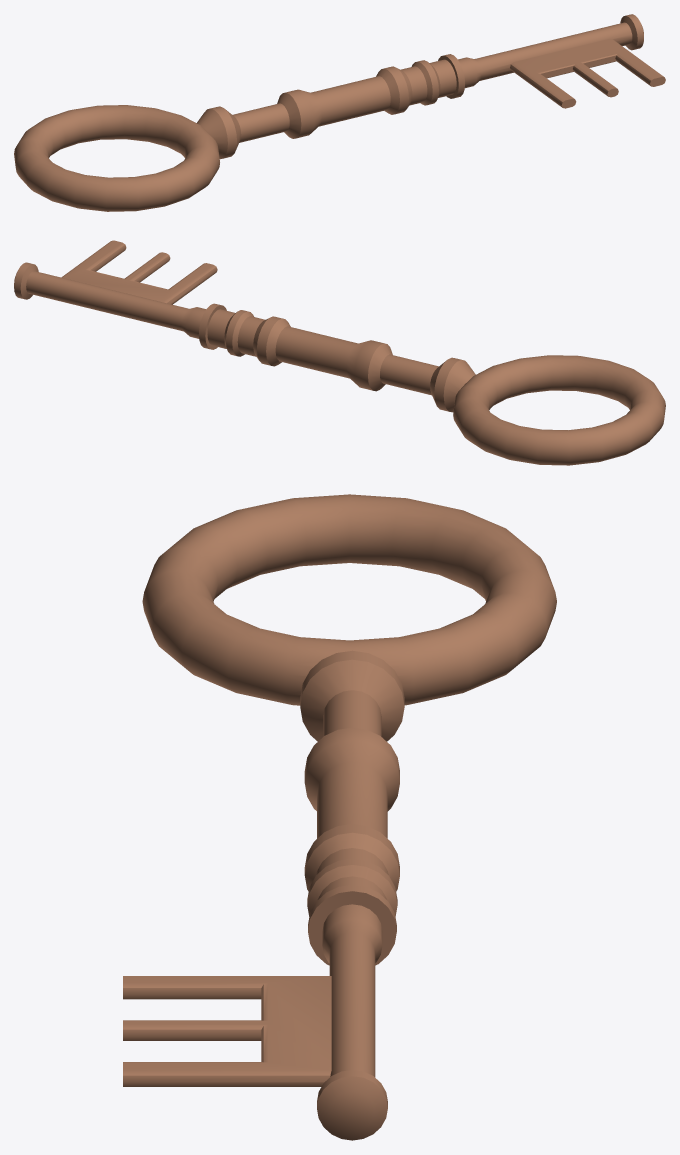
Rendered from Key_last.fbx.
The picture shows the model from 3 angles, top to bottom: view 1: azimuth 30°, elevation 25°; view 2: azimuth 150°, elevation 25°; view 3: azimuth 270°, elevation 25°; orthographic projection. The views are drawn at different scales.
Parts seen in each view (by area): view 1: polySurface41; view 2: polySurface41; view 3: polySurface41.
Part boxes in pixels (x1,y1,x2,y2): polySurface41: (14,14,665,211); polySurface41: (14,240,665,465); polySurface41: (123,494,556,1140).
Size of the model in its own units: 15.28 by 1.13 by 4.7.
